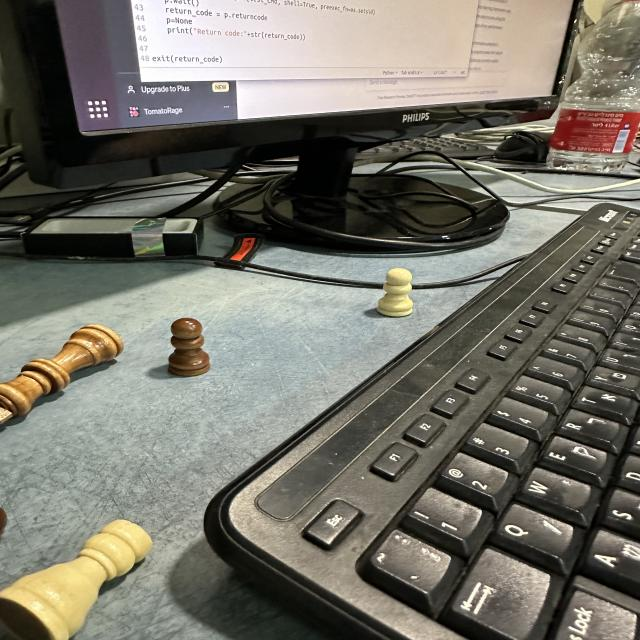Black-King: (0, 324, 123, 430)
Black-Pawn: (168, 318, 210, 376)
White-Pawn: (377, 268, 412, 318)
White-Rook: (0, 517, 152, 640)
